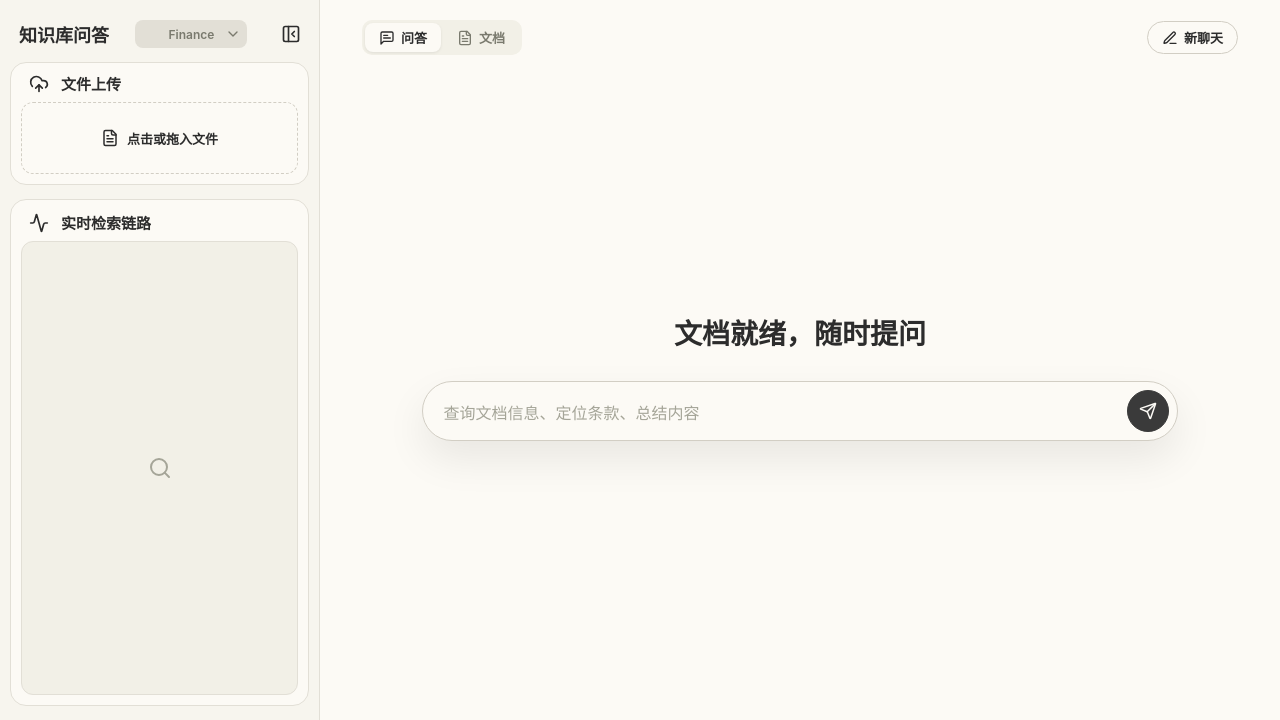
Test: FinRAG chat interface › creates a knowledge base from the documents page and switches to it
Check: the text "文档就绪，随时提问" is shown, box [674,316,926,353]
Click the button "文档" at {"x": 481, "y": 38}, box [443,23,519,52]
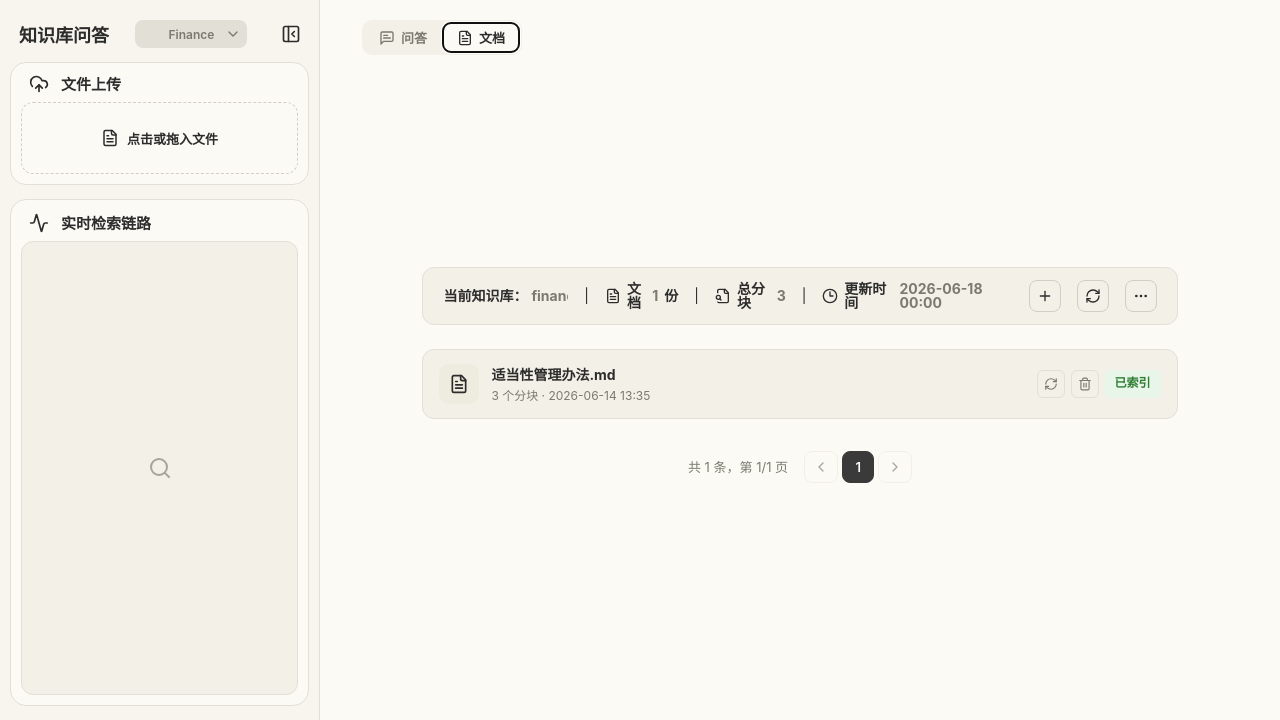
Click the button named "新建知识库" at {"x": 1045, "y": 296}, box [1029,280,1061,312]
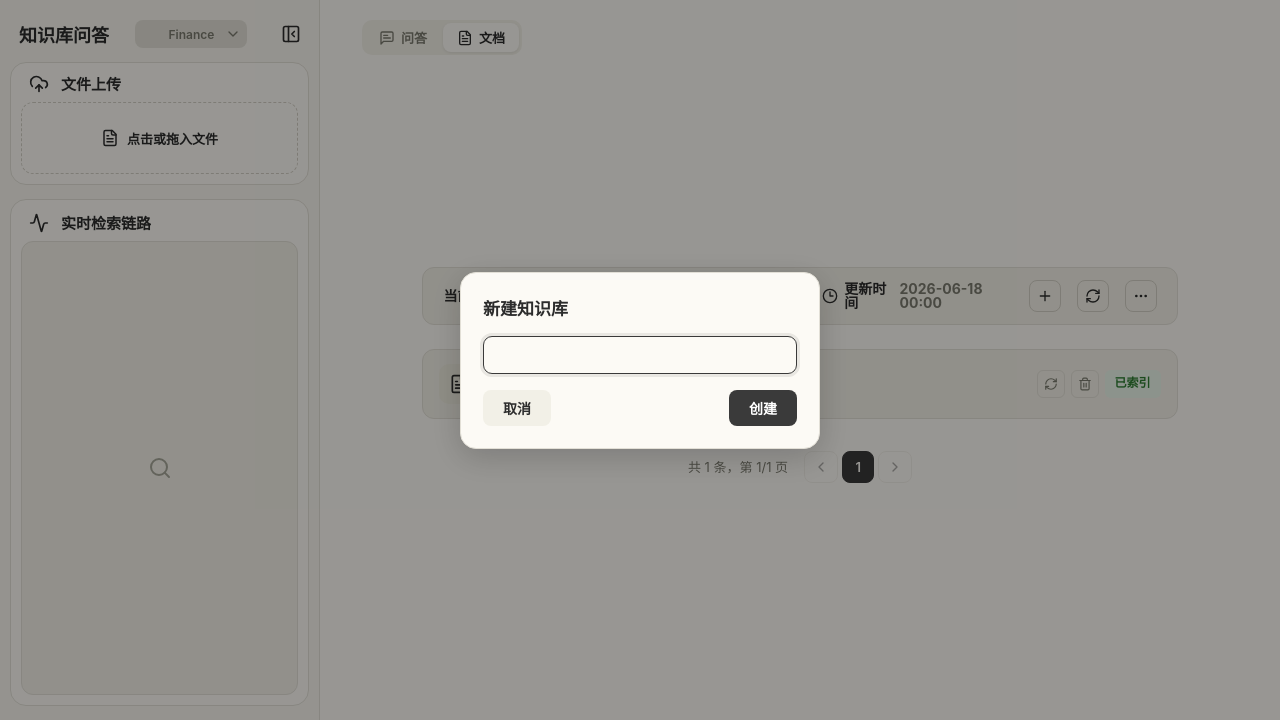
Type "credit" into the field named "知识库 ID" at {"x": 640, "y": 354}, box [483,336,797,374]
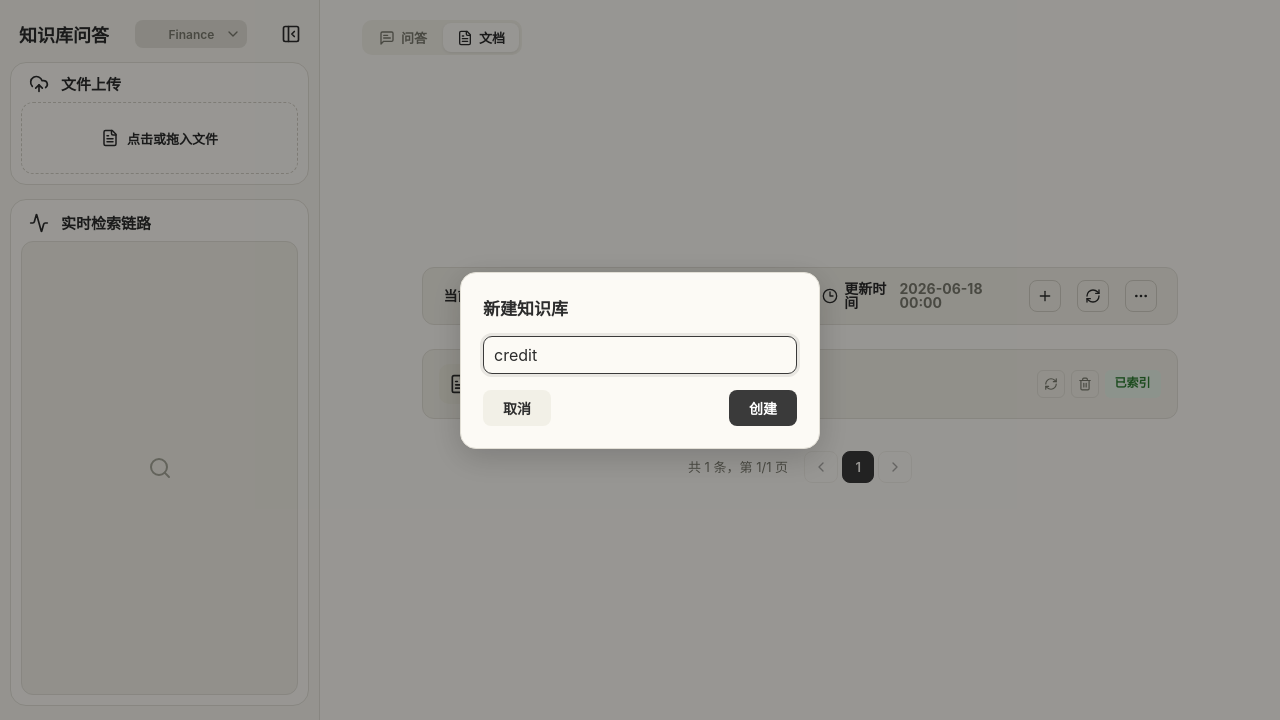
Click the button "创建" at {"x": 763, "y": 408}, box [729,390,797,426]
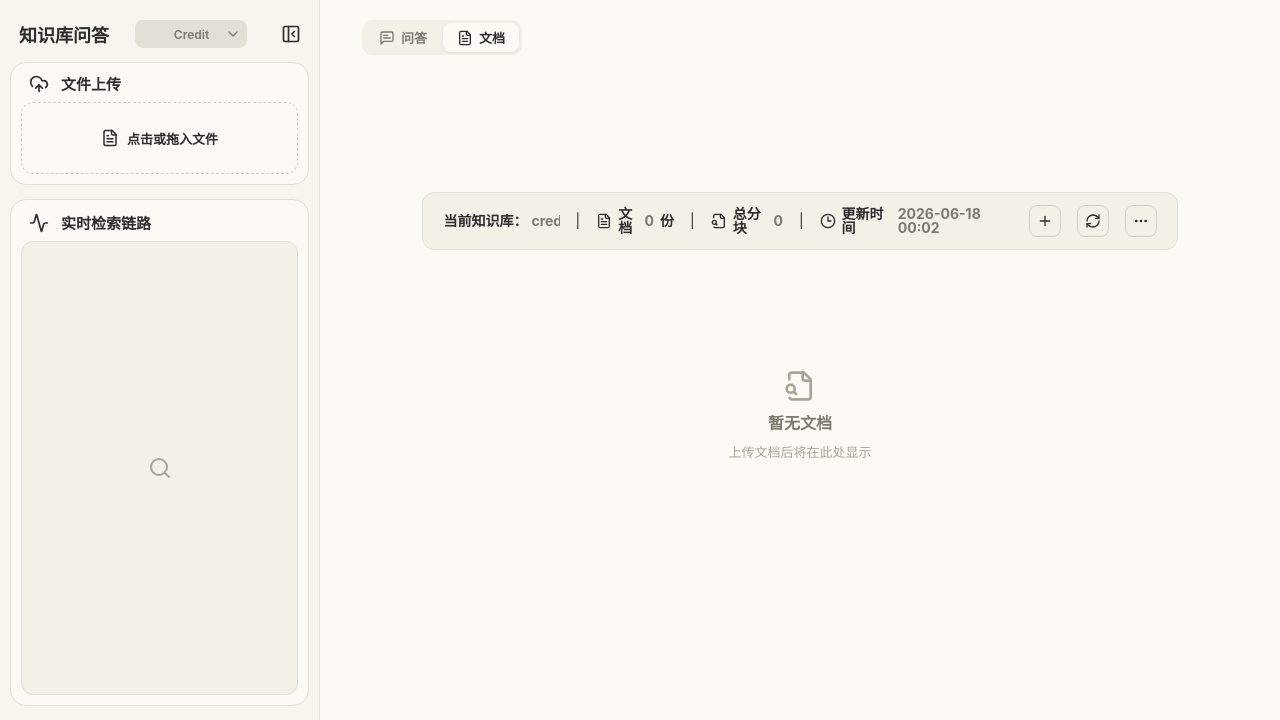
Check: the button with aria-label "切换知识库 credit" is shown, box [135,20,247,48]
